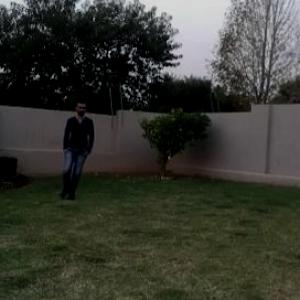follow: (58, 96, 92, 204)
